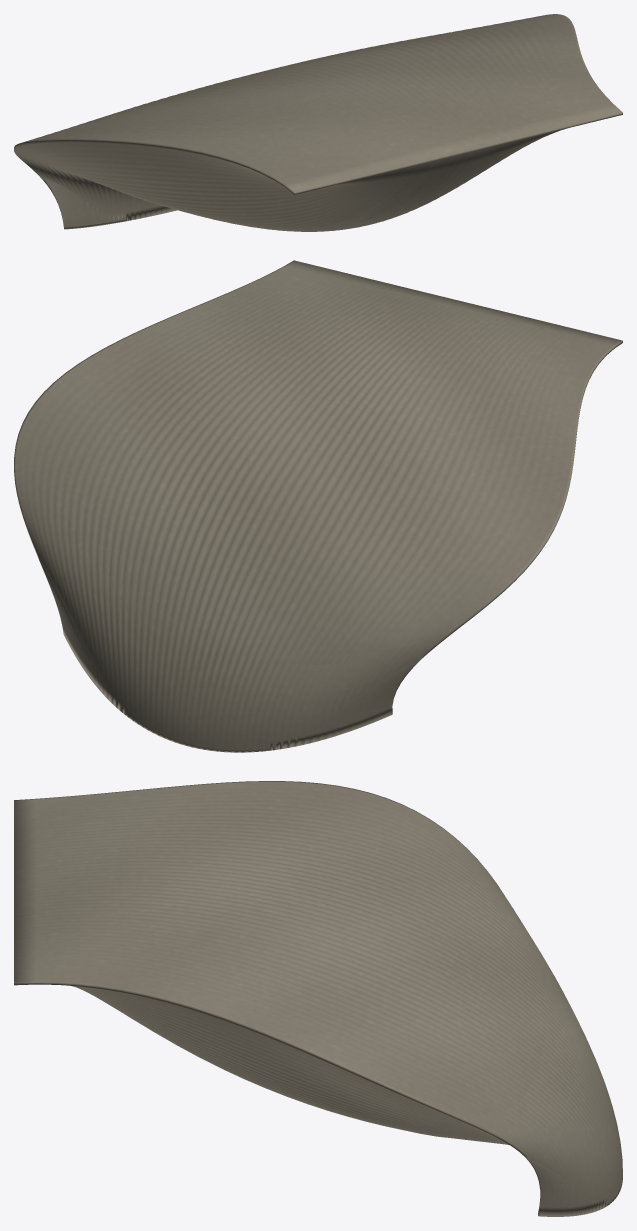
3 views of the same model, one above another, from view 1: azimuth 30°, elevation 25°; view 2: azimuth 150°, elevation 25°; view 3: azimuth 270°, elevation 25° (orthographic). The views are drawn at different scales.
Parts seen in each view (by area): view 1: Productus productus | BMNH B40952 fossil interpretation; view 2: Productus productus | BMNH B40952 fossil interpretation; view 3: Productus productus | BMNH B40952 fossil interpretation.
Part boxes in pixels (x1,y1,x2,y2): Productus productus | BMNH B40952 fossil interpretation: (14, 14, 622, 231); Productus productus | BMNH B40952 fossil interpretation: (14, 260, 622, 752); Productus productus | BMNH B40952 fossil interpretation: (14, 781, 622, 1216).
Bounding box in the file's own units: 0.9632 × 0.4574 × 0.86.
1 material, 1 textured.
